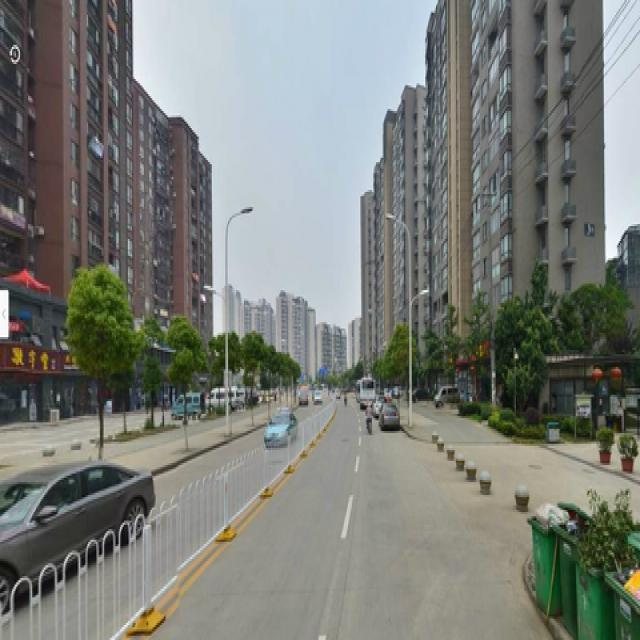cinn: (75, 269, 126, 476), (170, 311, 198, 444), (242, 324, 258, 431)
